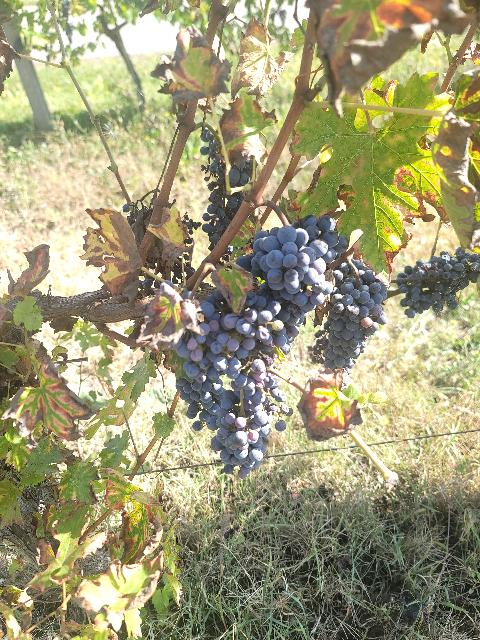grapes: (236, 215, 348, 311), (312, 278, 388, 370), (198, 290, 299, 358), (201, 130, 254, 250), (394, 248, 480, 318), (211, 390, 270, 476), (176, 338, 228, 431)
